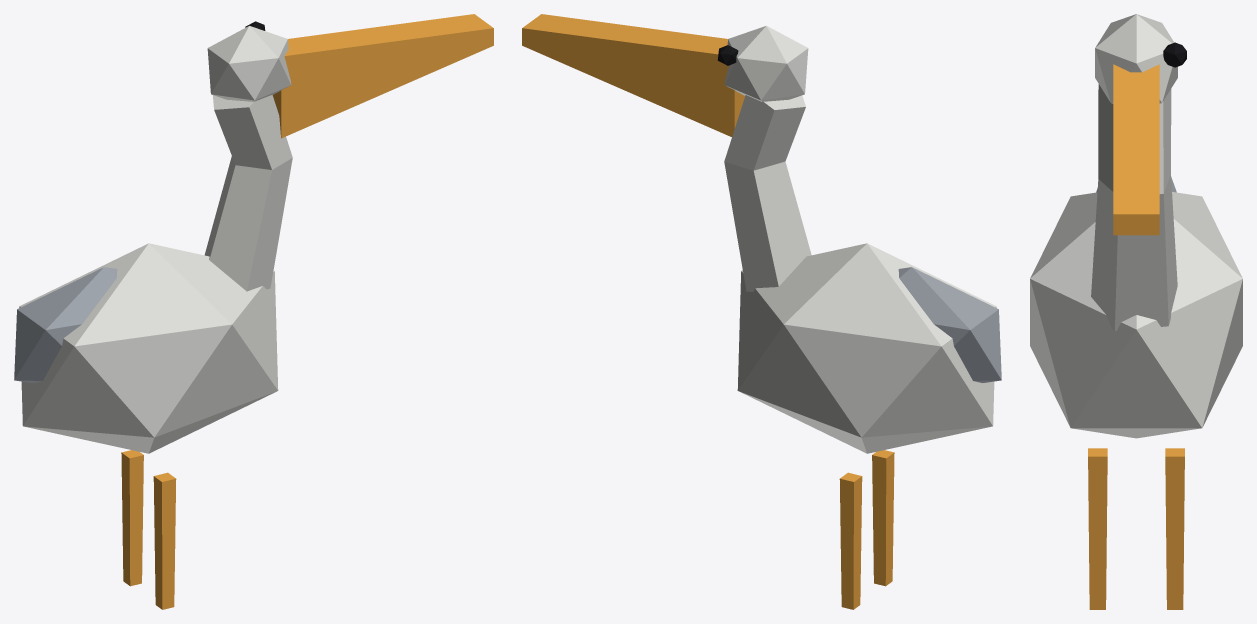
File: pelican.glb
The picture shows the model from 3 angles, left to right: view 1: azimuth 30°, elevation 25°; view 2: azimuth 150°, elevation 25°; view 3: azimuth 270°, elevation 25°; orthographic projection. The views are drawn at different scales.
Visible parts, largest first — view 1: pelican; view 2: pelican; view 3: pelican.
Boxes of the visible parts, left/top/right/bottom form: pelican: left=14, top=14, right=493, bottom=609; pelican: left=522, top=14, right=1001, bottom=609; pelican: left=1030, top=14, right=1242, bottom=609.
Size of the model in its own units: 0.841 by 0.93 by 0.2756.
